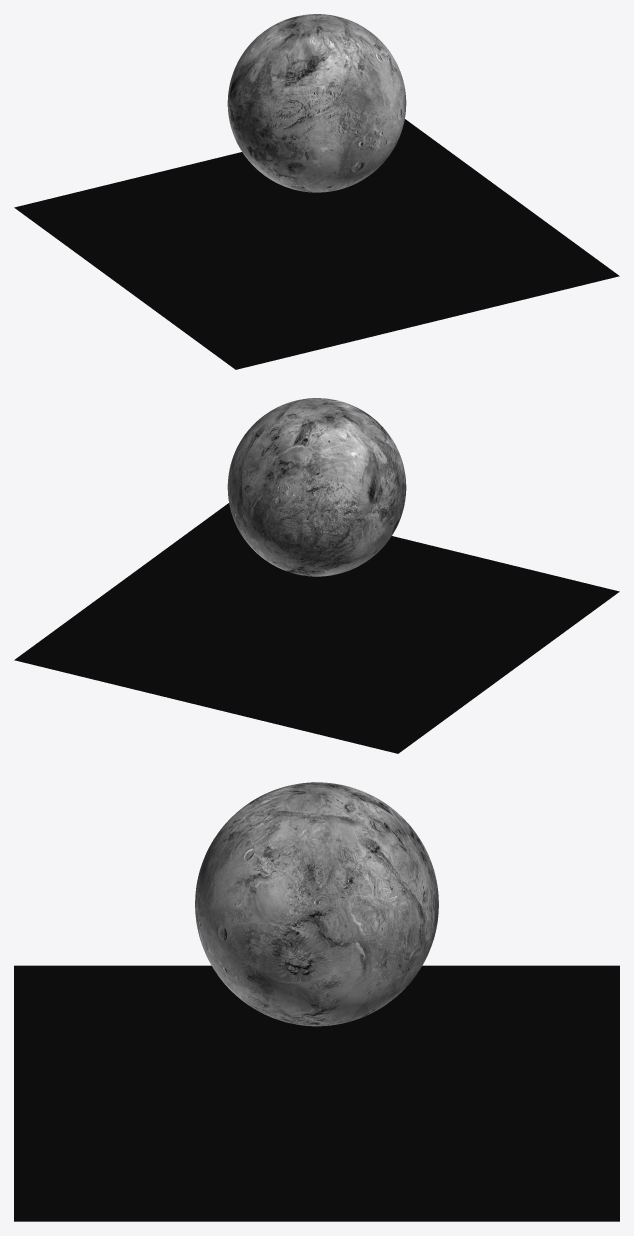
Rendered from haumea_5.glb.
3 views of the same model, one above another, from view 1: azimuth 30°, elevation 25°; view 2: azimuth 150°, elevation 25°; view 3: azimuth 270°, elevation 25° (orthographic). The views are drawn at different scales.
Visible parts, largest first — view 1: Sphere; view 2: Sphere; view 3: Sphere.
Boxes of the visible parts, x1=… form: Sphere: x1=14, y1=14, x2=619, y2=369; Sphere: x1=14, y1=398, x2=619, y2=753; Sphere: x1=14, y1=782, x2=619, y2=1221.
Bounding box in the file's own units: 7.63 × 4.16 × 7.63.
2 materials, 1 textured.
